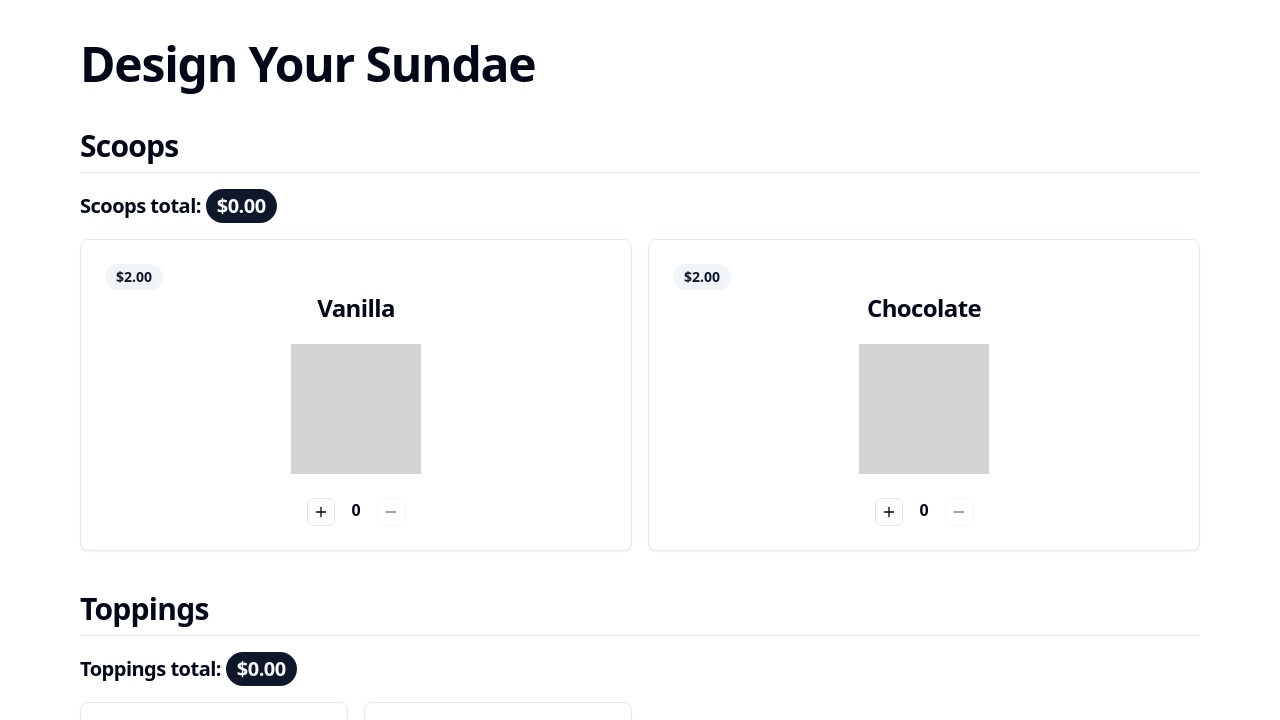
Scenario: toppings summary should not appear if there is no toppings order
Entry Phase: order scoops without toppings and go to next phase
Click the 1st button: (321, 512) [307,498,335,526]
(page scrolled)
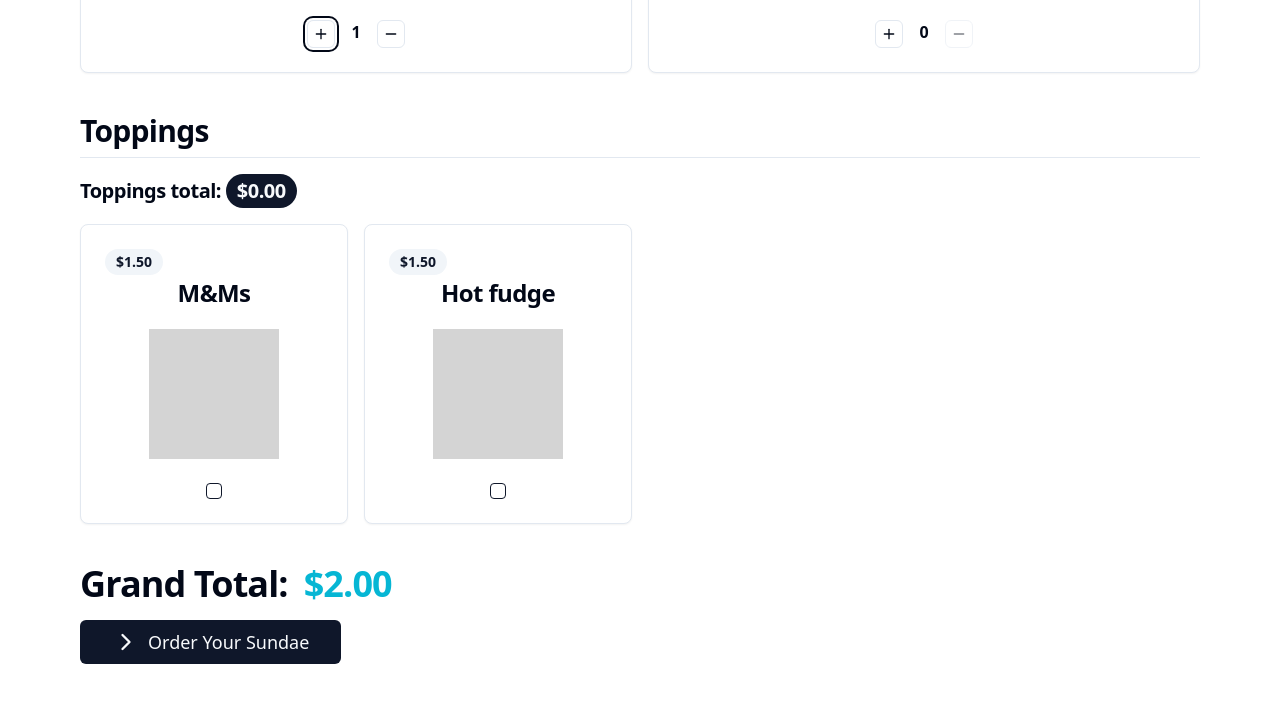
Click the button "Order Your Sundae": (211, 642) [80,620,341,664]
(page scrolled)
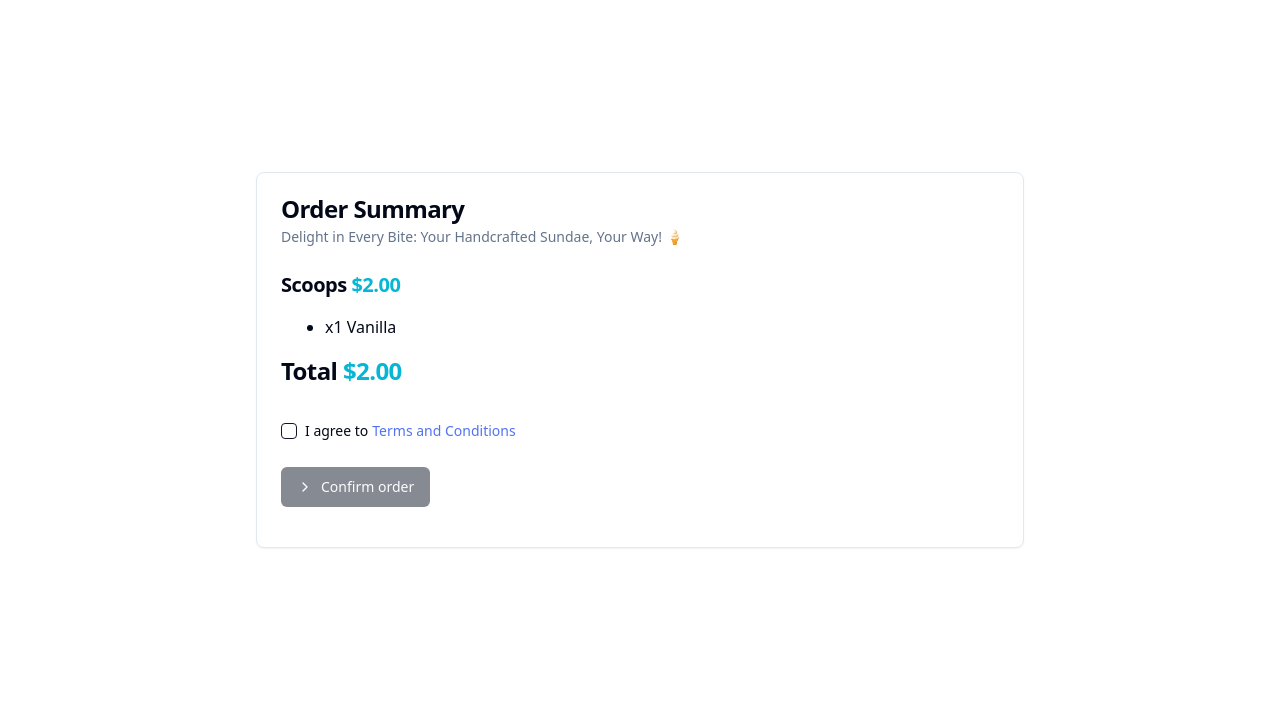
Expected: the heading "Toppings" is gone
